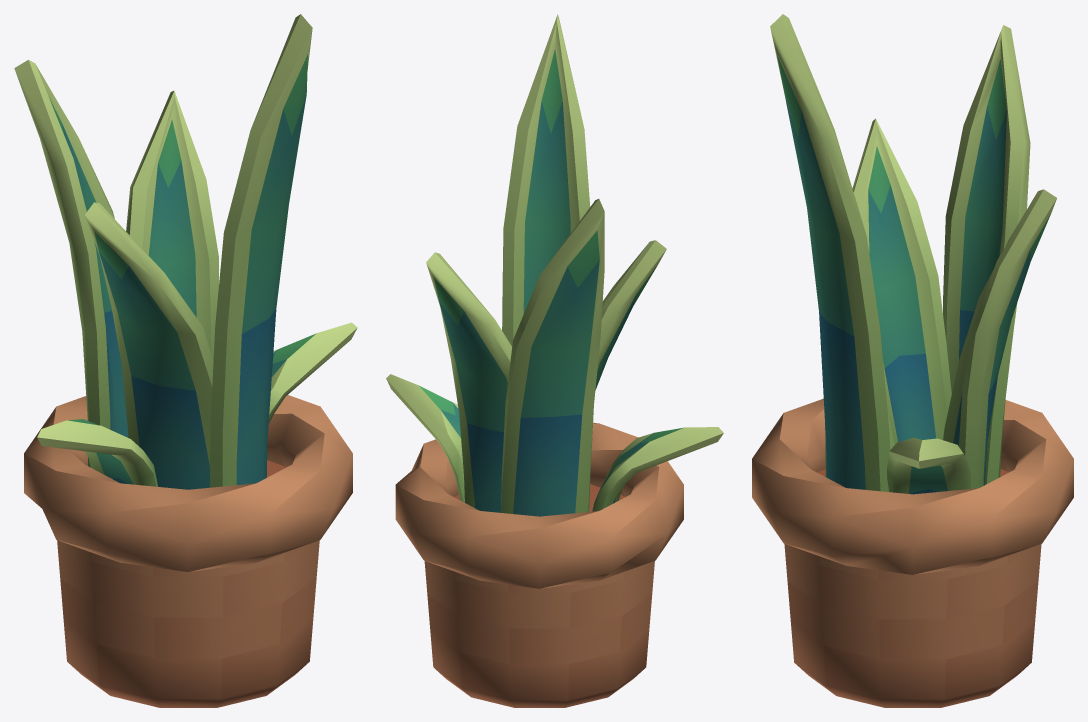
File: plant_snake.glb
3 views of the same model, side by side, from view 1: azimuth 30°, elevation 25°; view 2: azimuth 150°, elevation 25°; view 3: azimuth 270°, elevation 25° (orthographic). The views are drawn at different scales.
Parts seen in each view (by area): view 1: sansevieria_plant_medium_potted; view 2: sansevieria_plant_medium_potted; view 3: sansevieria_plant_medium_potted.
Boxes of the visible parts, x1,y1,x2,y2 form: sansevieria_plant_medium_potted: [14, 14, 357, 707]; sansevieria_plant_medium_potted: [386, 14, 723, 707]; sansevieria_plant_medium_potted: [752, 14, 1073, 707].
Bounding box in the file's own units: 1.21 × 2.24 × 0.9746.
1 material, 1 textured.
